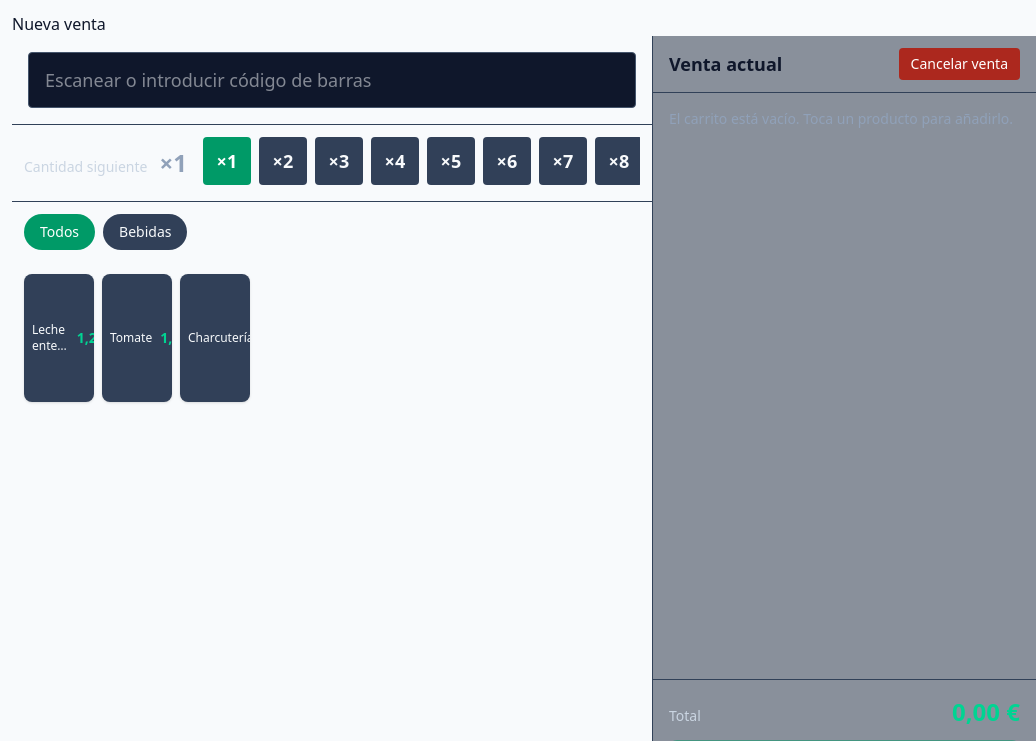
Test case: PosHomePage › shows a semantic backend rejection instead of applying a foreign-terminal mutation
Step 1. Click the button "Leche entera 1L 1,20 €" → (59, 338), box [24,274,94,402]
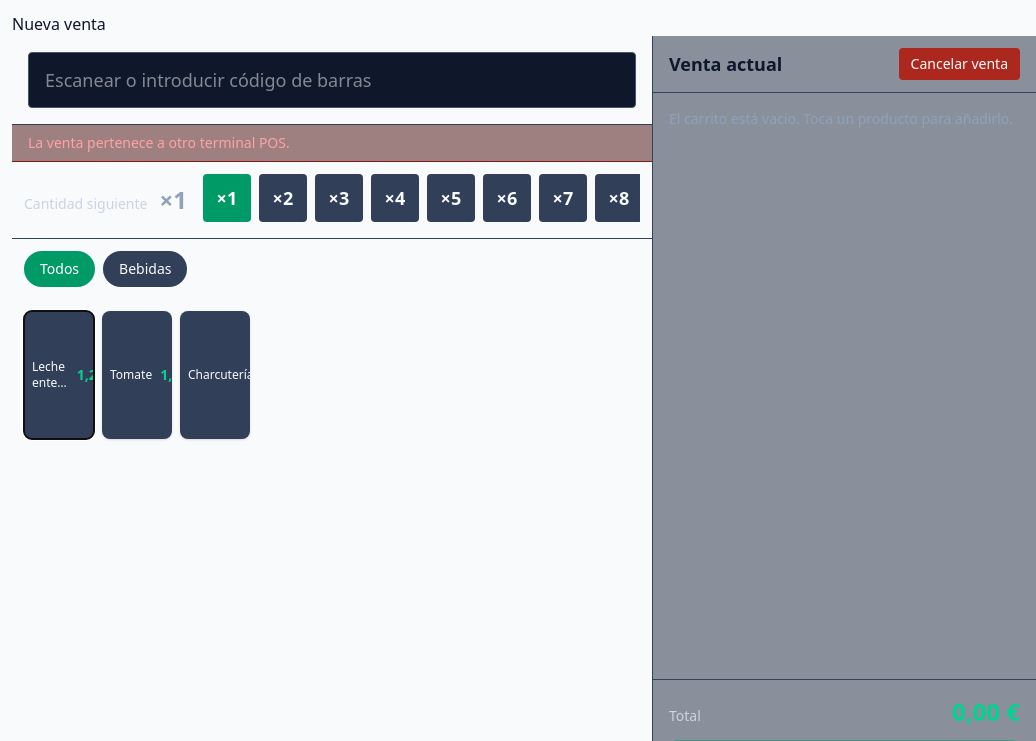
Result: the message reads "La venta pertenece a otro terminal POS." at [28,133,290,152]
